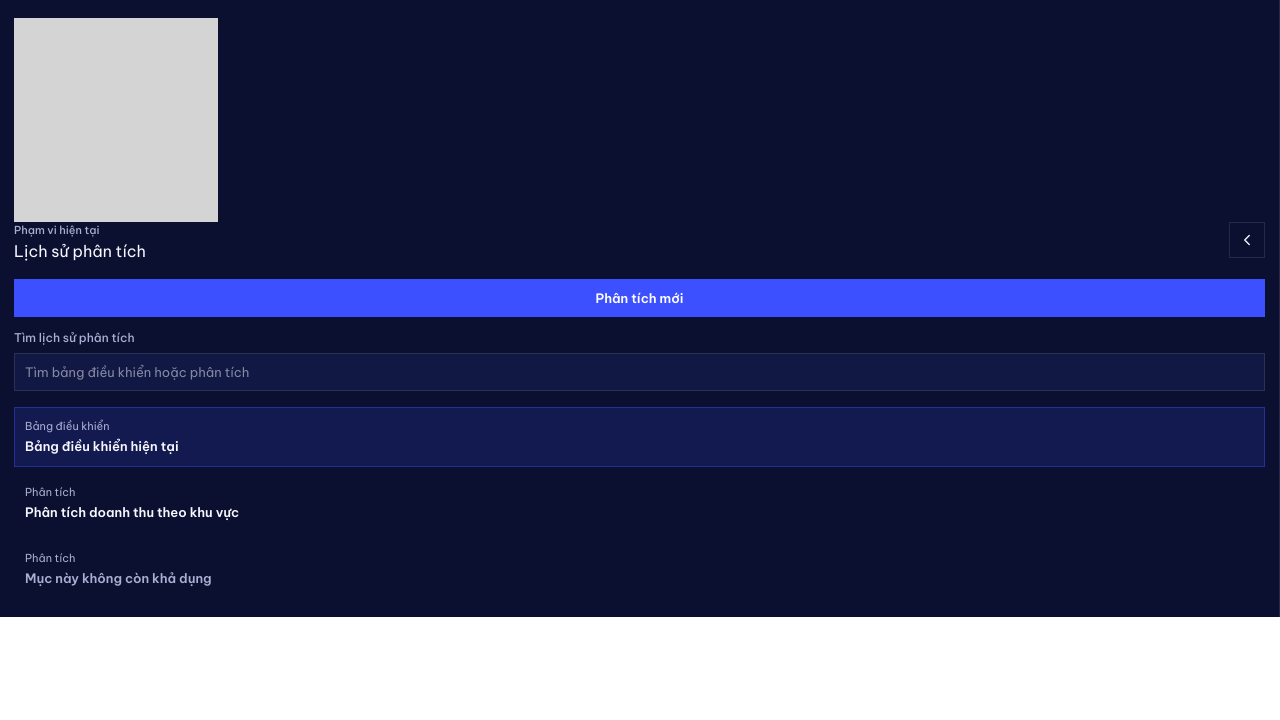
Test: dashboard analysis history › searches only supplied authorized subjects and never renders a removed subject title
This screenshot has width=1280, height=720.
Check: the button "Phân tích Mục này không còn khả dụng" is shown, box x1=14 y1=539 x2=1265 y2=599
Type "khu vực" into the search field labelled "Tìm lịch sử phân tích" at (640, 372), box x1=14 y1=353 x2=1265 y2=391
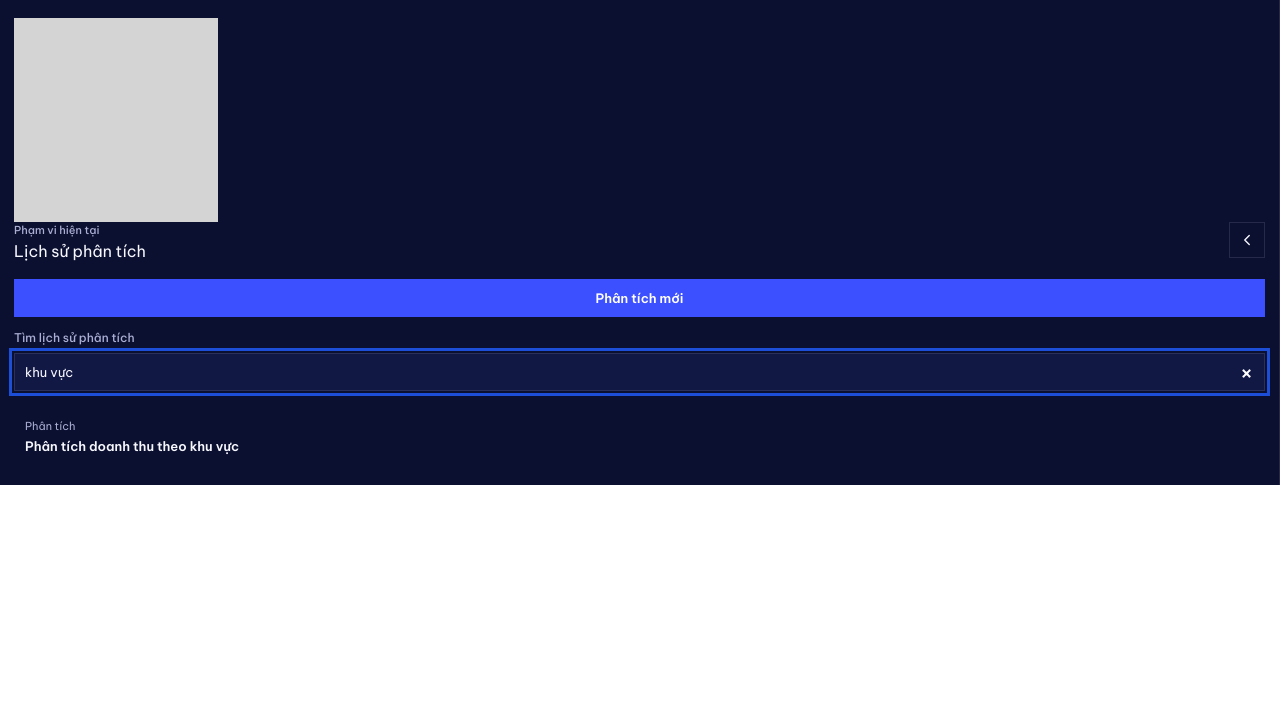
Check: the button "Phân tích doanh thu theo khu vực" is shown, box x1=14 y1=407 x2=1265 y2=467
Check: the button "Bảng điều khiển hiện tại" is gone
